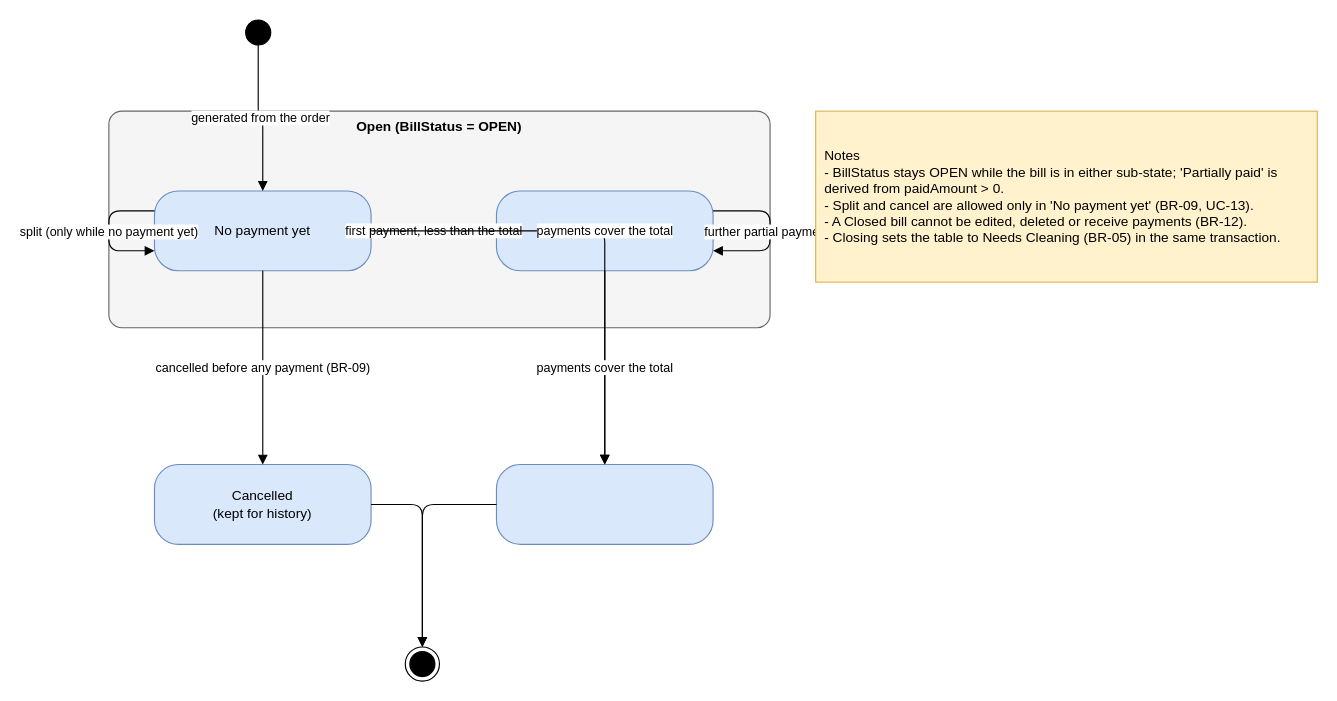
The diagram is 1337 pixels wide and 701 high, and some of its shapes have lost their labels. Each missing label, with the centre of its shape:
"Closed (read-only)" belongs at point (604, 503).
"Partially paid (paid amount > 0)" belongs at point (604, 230).
